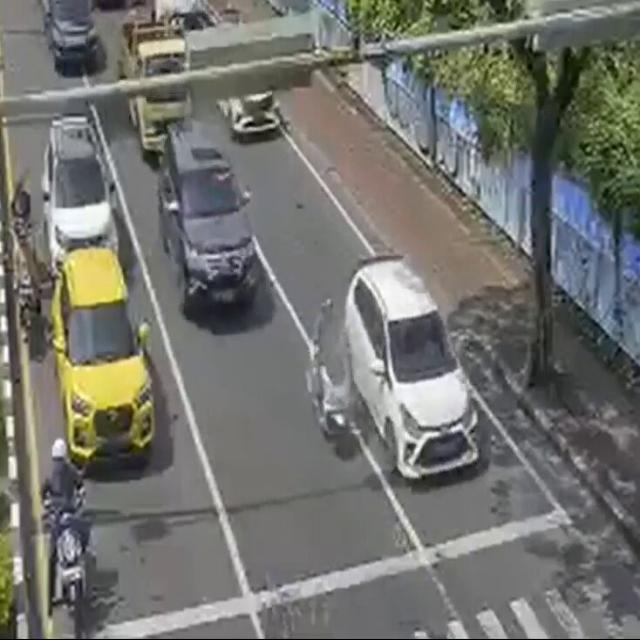car: (342, 252, 490, 494), (57, 245, 177, 464), (161, 124, 270, 340), (42, 117, 113, 279)
motorbike: (16, 434, 99, 640), (308, 299, 355, 439), (6, 231, 36, 365)
